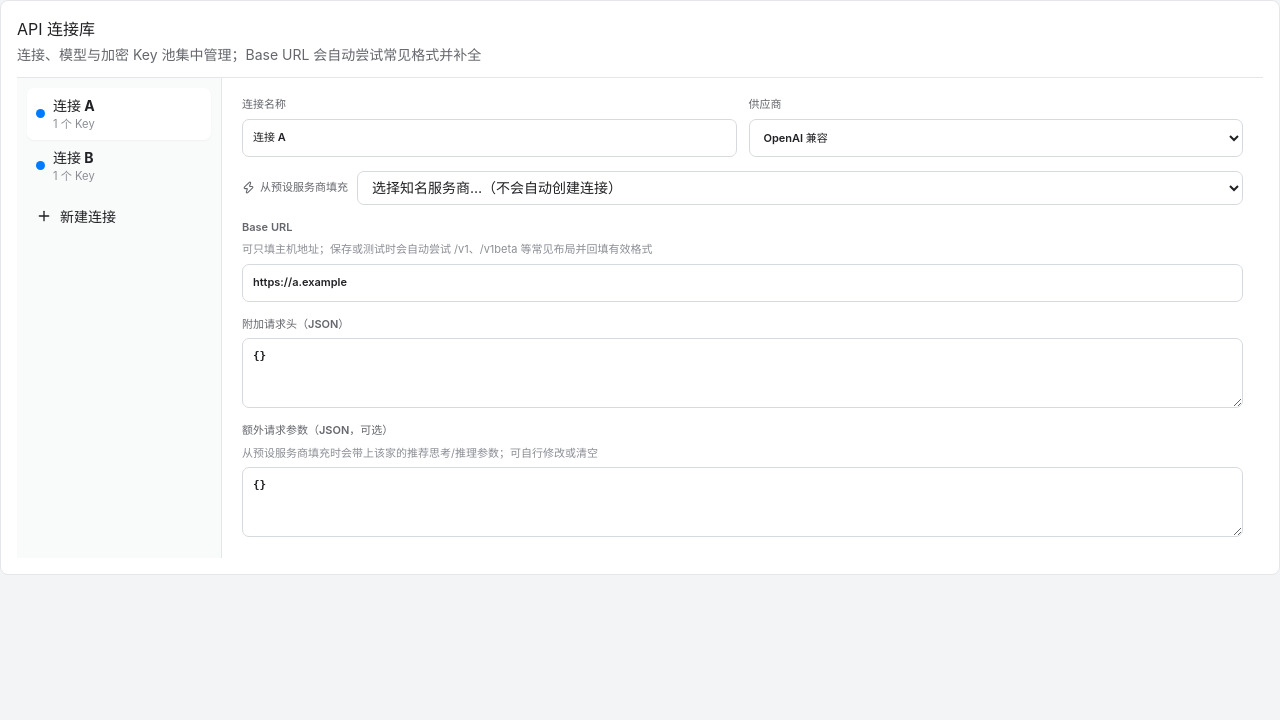
Test: ConnectionsView › lists connections and selects one
Expected: the text "连接 A" is shown, [53, 95, 95, 116]
Click the text "连接 B": point(74, 157) [53, 147, 95, 168]
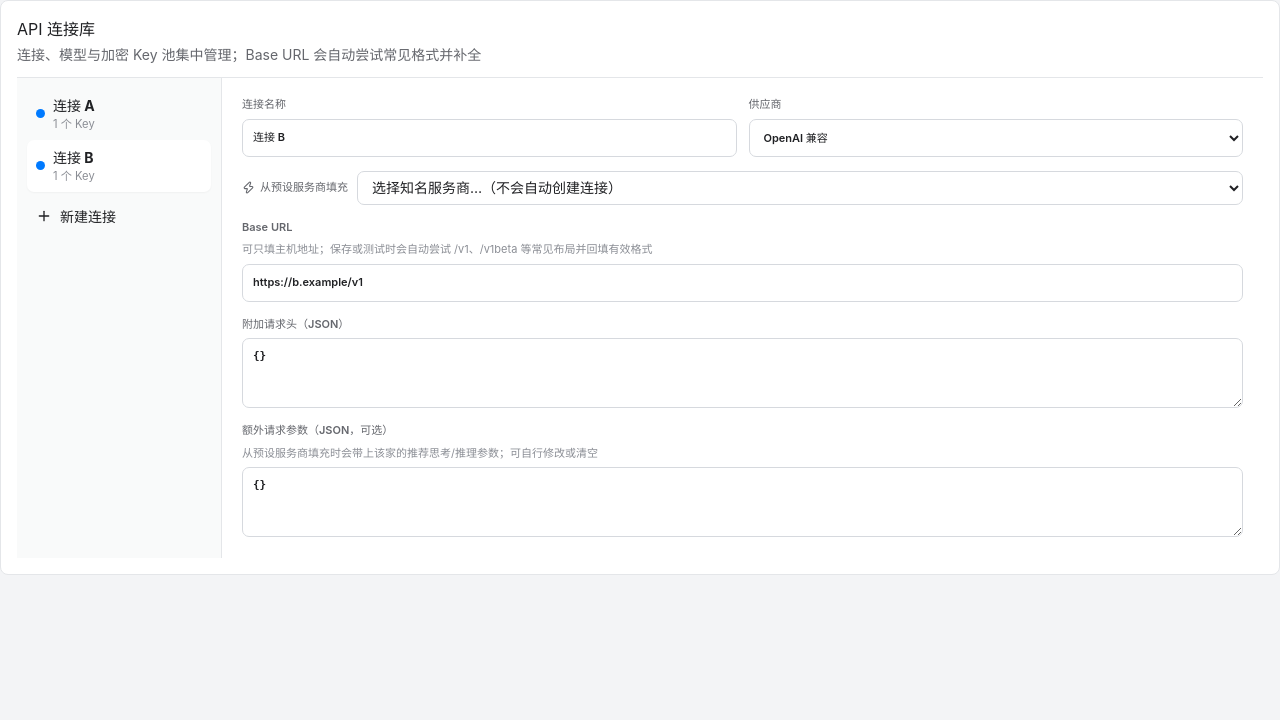
Now the field showing "连接 B" is shown, box [242, 118, 736, 156]
Now the field showing "https://b.example/v1" is shown, box [242, 264, 1243, 302]
